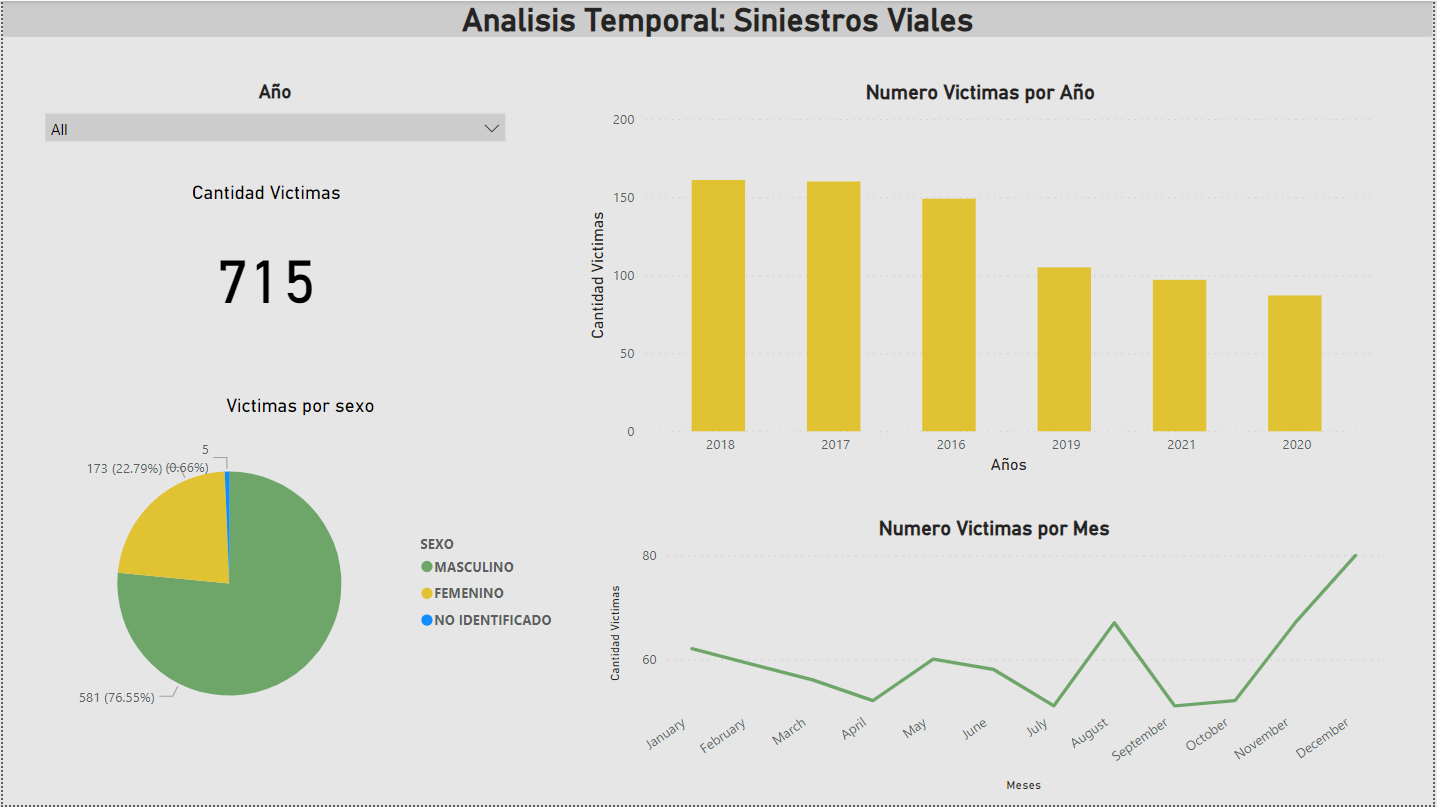

Layout of this report page (visuals, bound fields, positions):
{"tool":"powerbi","page":{"name":"Analisis Temporal","canvas":[1280,720],"ordinal":0},"visuals":[{"type":"slicer","title":"Año","fields":{"Values":["df_homicidios.AÑO"]},"box":[26.7,70.9,433.5,61.6],"z":0},{"type":"pieChart","title":"Victimas por sexo","fields":{"Y":["Sum(df_homicidios.N_VICTIMAS)"],"Category":["df_homicidios.SEXO"]},"box":[26.7,352.4,478.7,320.5],"z":1000},{"type":"card","title":"Cantidad Victimas","fields":{"Values":["CountNonNull(df_homicidios.N_VICTIMAS)"]},"box":[91.4,161.3,288.7,147.9],"z":2000},{"type":"columnChart","title":"Numero Victimas por Año","fields":{"Y":["Sum(df_homicidios.N_VICTIMAS)"],"Category":["df_homicidios.AÑO"]},"box":[519.6,70.6,711.5,357.6],"z":3000},{"type":"lineChart","title":"Numero Victimas por Mes","fields":{"Y":["CountNonNull(df_homicidios.N_VICTIMAS)"],"Category":["df_homicidios.FECHA.Variation.Date Hierarchy.Month"]},"box":[537.3,461.3,700.6,251.7],"z":4000},{"type":"textbox","title":"Analisis Temporal: Siniestros Viales","box":[0,0,1280,31.8],"z":5000}]}

Visuals, with their boxes in screenshot pixels (x1, y1, x2, y2), scaled from the page's 1280x720 canvas onto the 1437x807 screenshot:
"Año" slicer: locate(30, 79, 517, 149)
"Victimas por sexo" pieChart: locate(30, 395, 567, 754)
"Cantidad Victimas" card: locate(103, 181, 427, 347)
"Numero Victimas por Año" columnChart: locate(583, 79, 1382, 480)
"Numero Victimas por Mes" lineChart: locate(603, 517, 1390, 799)
"Analisis Temporal: Siniestros Viales" textbox: locate(0, 0, 1436, 36)
